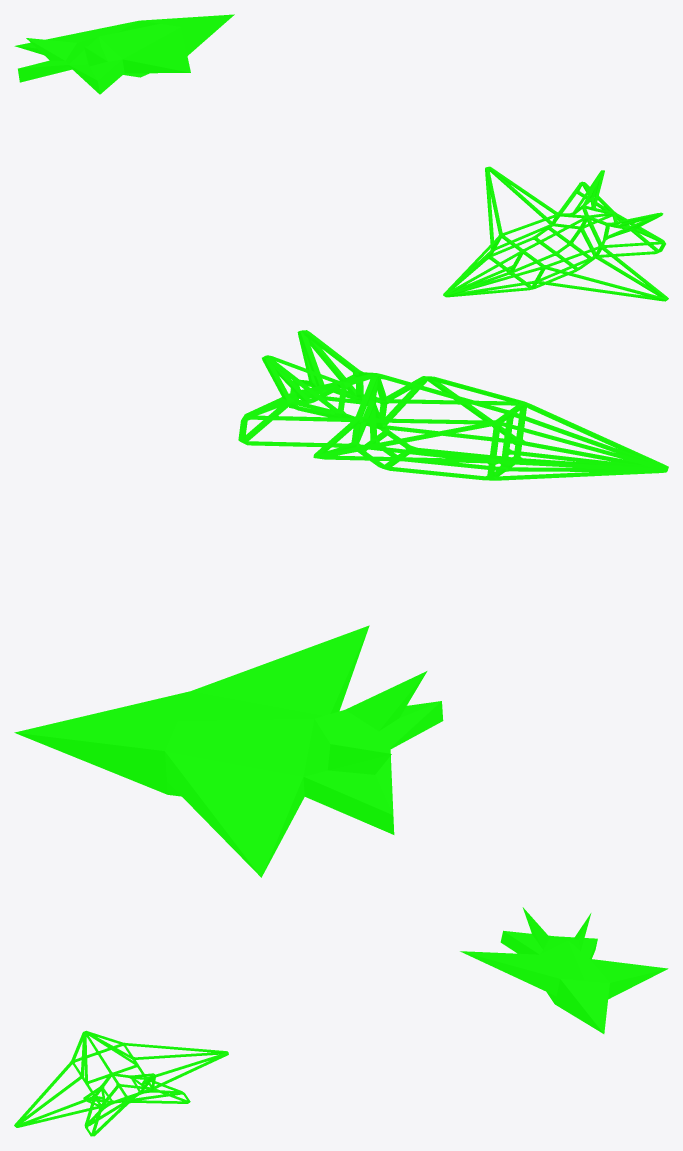
Rendered from jets.glb.
3 renders of one model, top to bottom at view 1: azimuth 30°, elevation 25°; view 2: azimuth 150°, elevation 25°; view 3: azimuth 270°, elevation 25°, orthographic. The views are drawn at different scales.
Visible parts, largest first — view 1: Cube.004, Cube.005; view 2: Cube.005, Cube.004; view 3: Cube.005, Cube.004.
Part boxes in pixels (x1,y1,x2,y2): Cube.004: [443, 166, 668, 301]; Cube.005: [14, 14, 234, 94]; Cube.005: [14, 625, 443, 877]; Cube.004: [238, 330, 668, 480]; Cube.005: [460, 907, 668, 1033]; Cube.004: [14, 1030, 228, 1136].
Bounding box in the file's own units: 1.45 × 0.4387 × 2.68.
